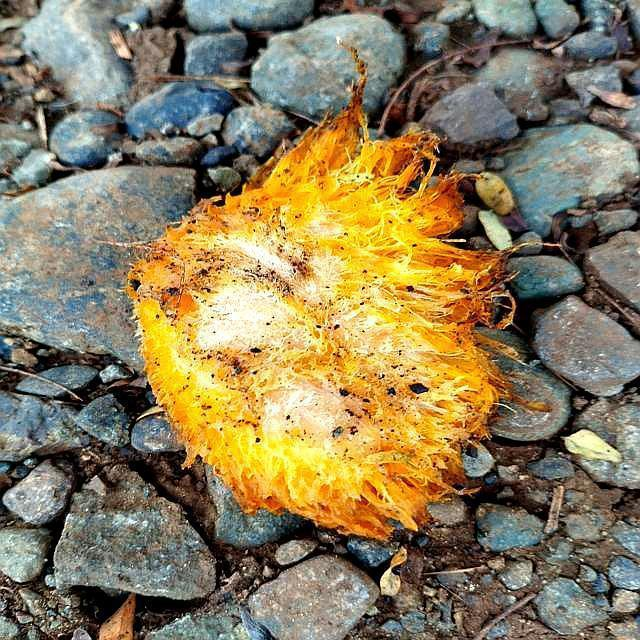Biodegradable: (135, 121, 497, 537)
